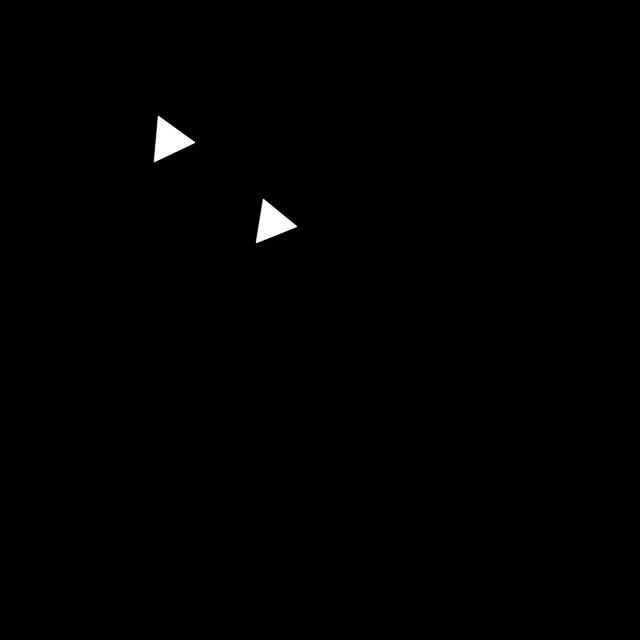Triangle: (250, 189, 302, 253), (147, 110, 200, 169)
